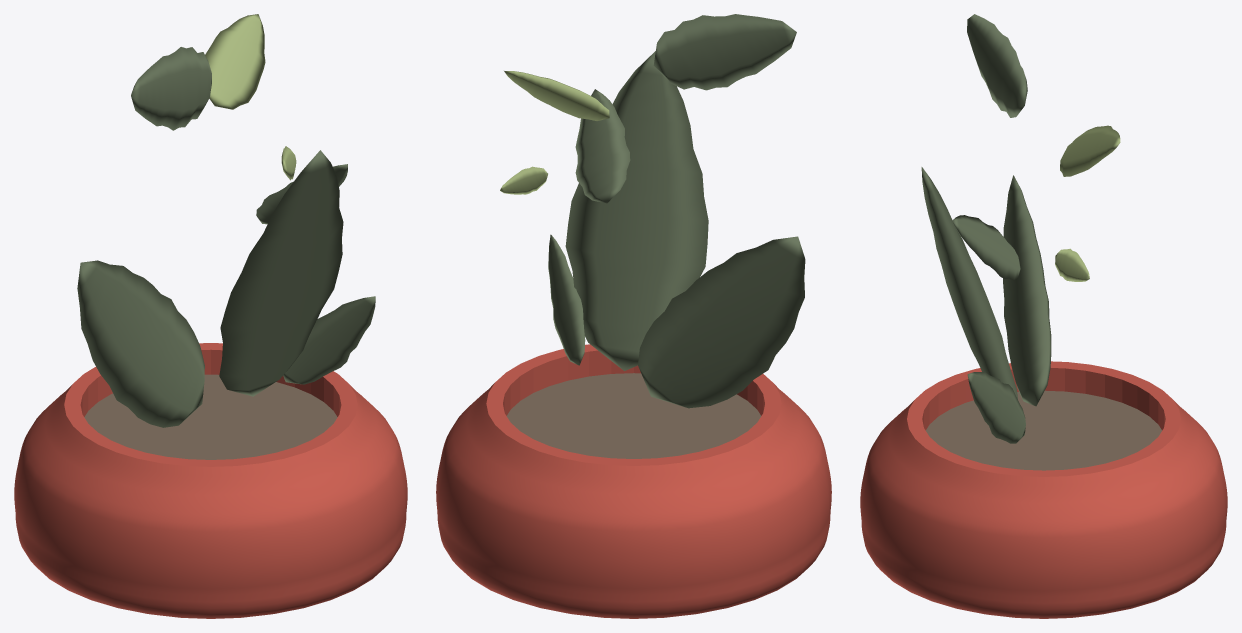
File: NPR_25_1013__MOD__GardenFurniture__PlantersAndPots__PottedPlant__Var-03__.glb
3 renders of one model, left to right at view 1: azimuth 30°, elevation 25°; view 2: azimuth 150°, elevation 25°; view 3: azimuth 270°, elevation 25°, orthographic. The views are drawn at different scales.
Parts seen in each view (by area): view 1: NPR_25_1013__MOD__GardenFurniture__PlantersAndPots__PottedPl; view 2: NPR_25_1013__MOD__GardenFurniture__PlantersAndPots__PottedPl; view 3: NPR_25_1013__MOD__GardenFurniture__PlantersAndPots__PottedPl.
Part boxes in pixels (left/top/right/bottom): NPR_25_1013__MOD__GardenFurniture__PlantersAndPots__PottedPl: left=14, top=14, right=407, bottom=618; NPR_25_1013__MOD__GardenFurniture__PlantersAndPots__PottedPl: left=436, top=14, right=831, bottom=618; NPR_25_1013__MOD__GardenFurniture__PlantersAndPots__PottedPl: left=860, top=14, right=1227, bottom=618.
Size of the model in its own units: 0.4321 by 0.6481 by 0.4321.
